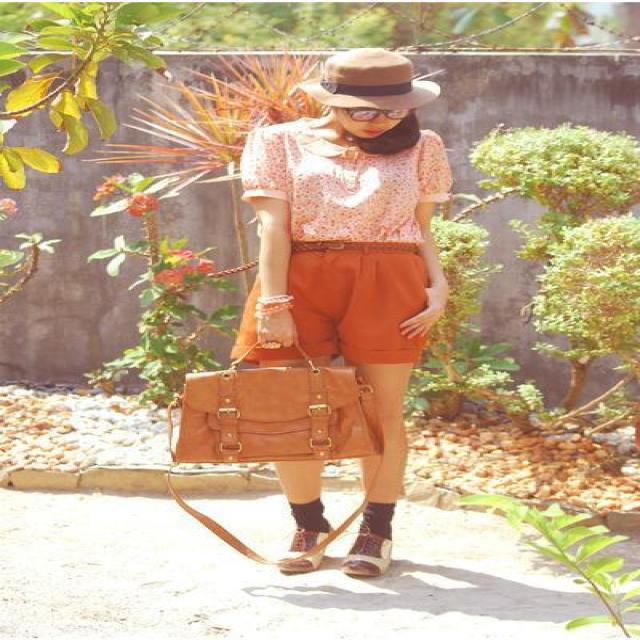bag: (150, 353, 384, 465)
hat: (288, 46, 442, 121)
shirt: (212, 116, 462, 242)
shoe: (237, 525, 387, 580)
shorts: (222, 238, 432, 370)
